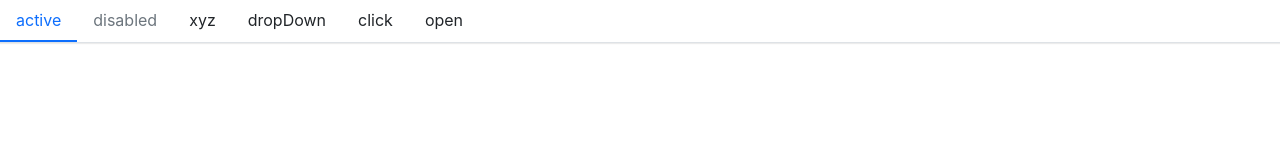
it: test Menu and MenuItem component base on default props › should show dropdown items when hover on subMenu
Check: the text "dropDownItem" is not shown
Hover over the text "dropDown" at (287, 20), box [248, 8, 326, 32]
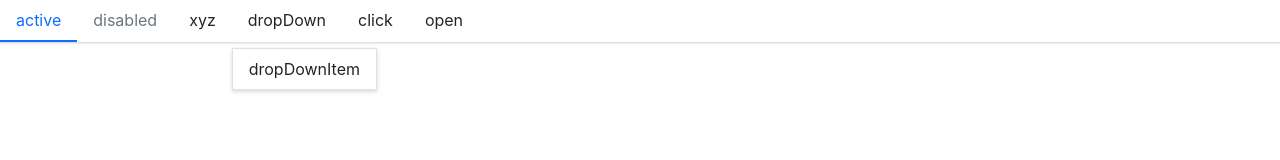
Check: the list item "dropDownItem" is shown
Click the list item "dropDownItem" at (304, 69), box [249, 59, 360, 79]
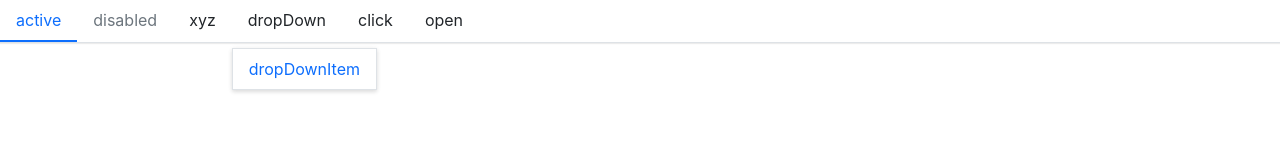
Move the pointer off the text "dropDown", box [248, 8, 326, 32]
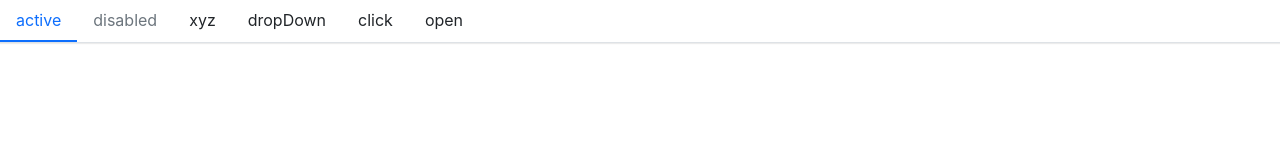
Check: the list item "dropDownItem" is gone
